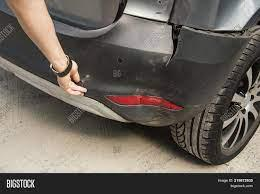rear-bumper-dent: (29, 6, 249, 128)
